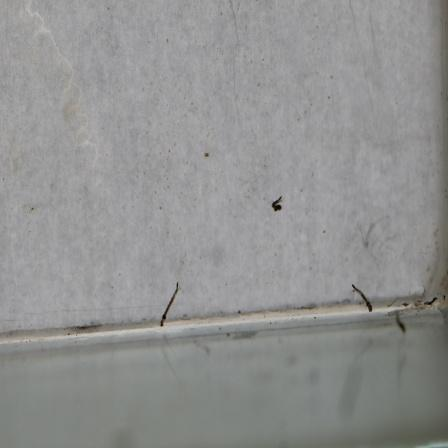Jentik-Nyamuk: (158, 279, 183, 333), (350, 281, 375, 317), (269, 194, 285, 216)
